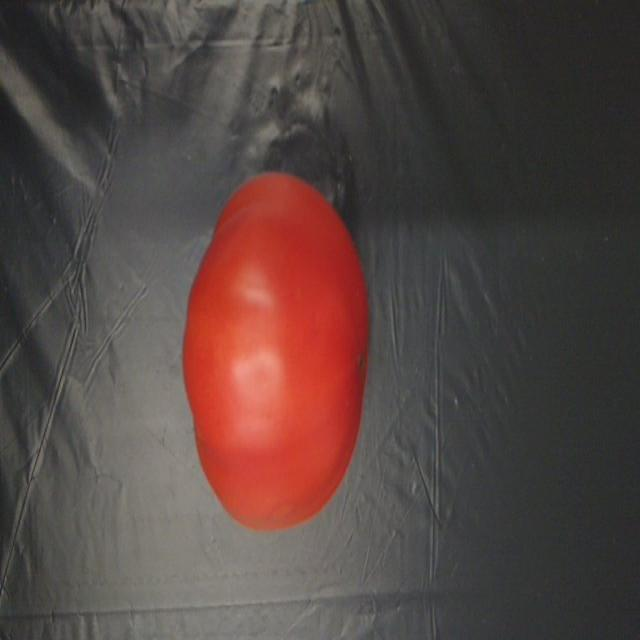kirmizi: (153, 164, 376, 537)
